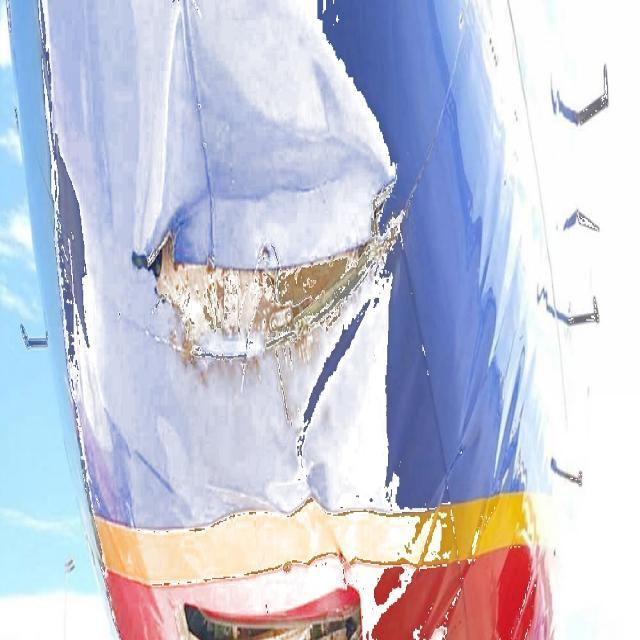crack: (144, 165, 414, 391)
